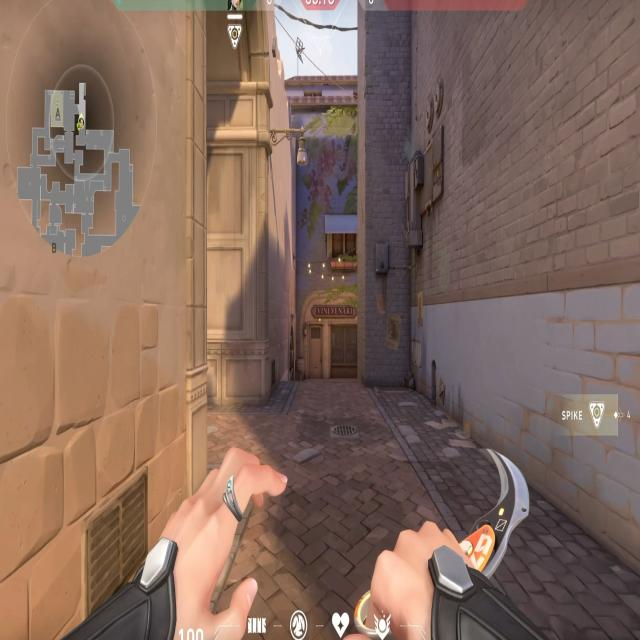Wine: (284, 258, 382, 403)
